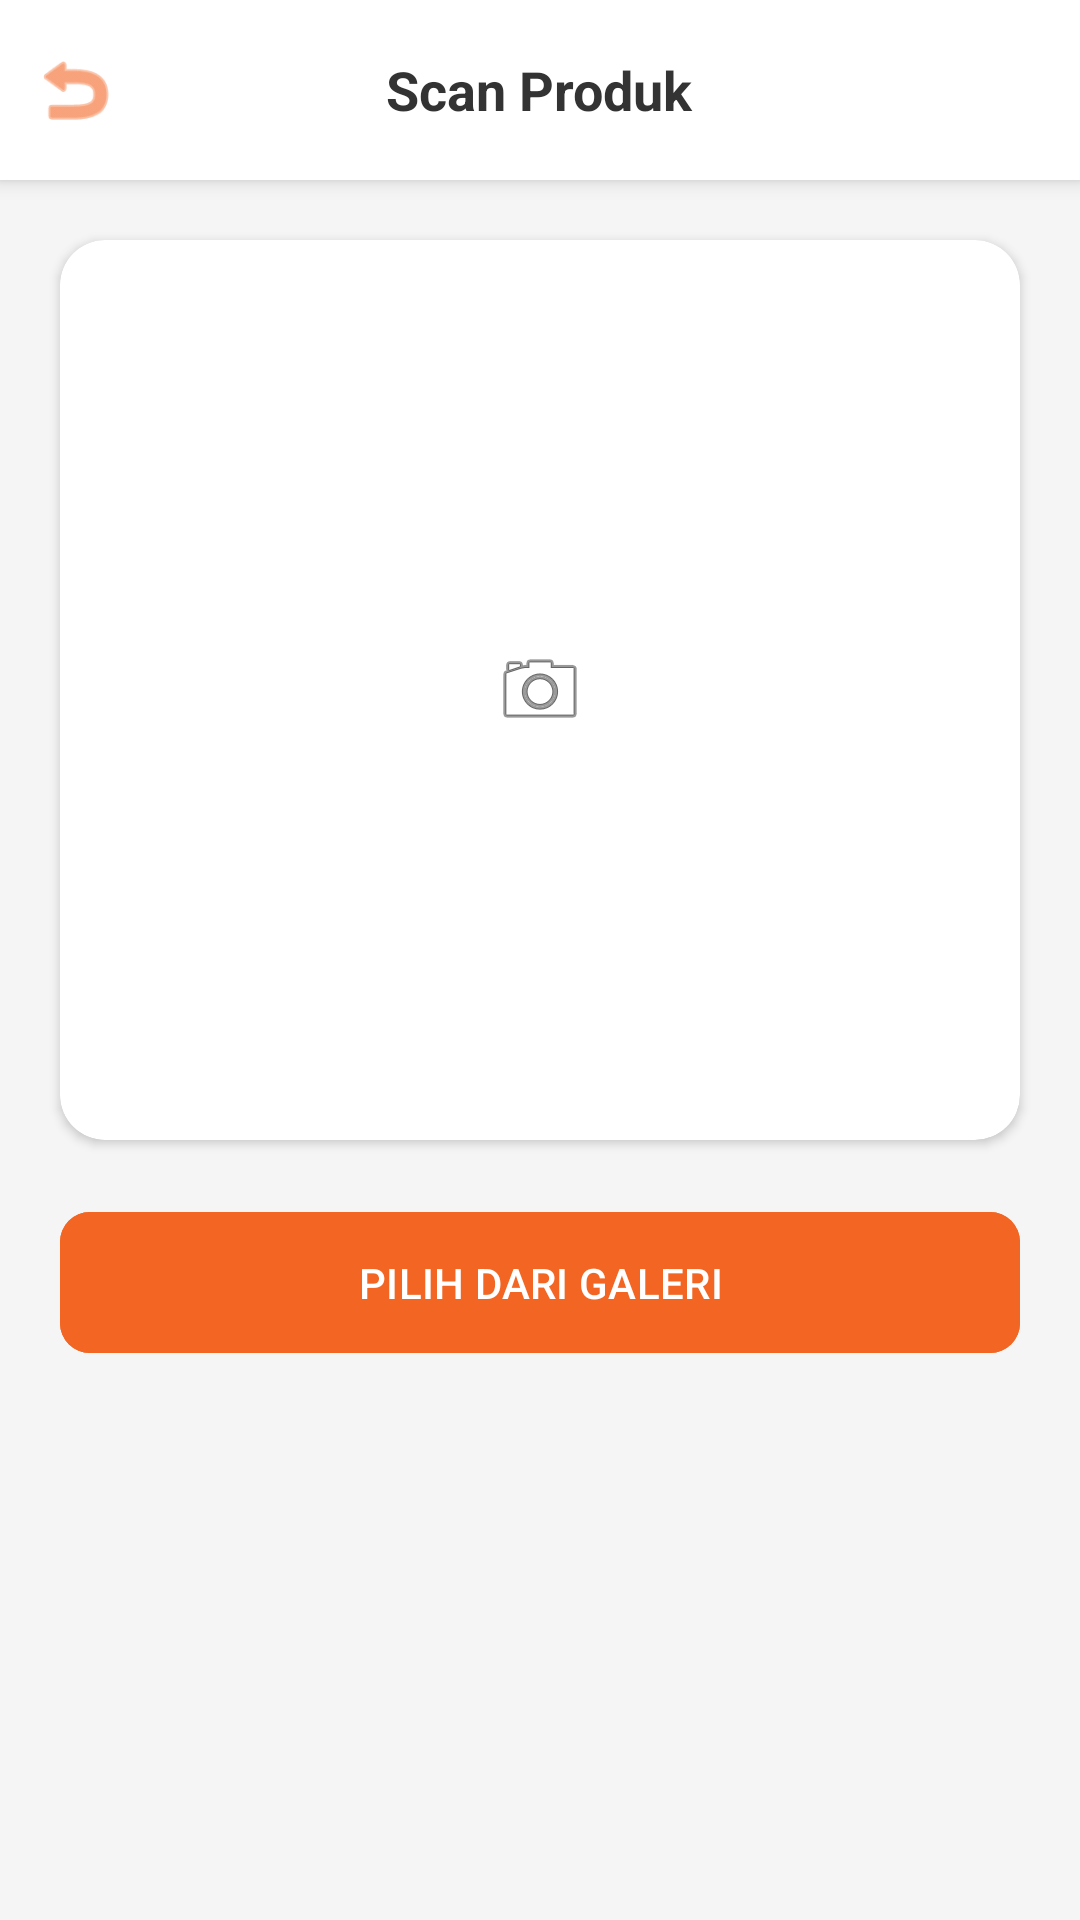

Icons on this 1080×1920 Android screen, each with its box as BBox(x1, y1, x2, y2):
revert: BBox(44, 61, 109, 120)
